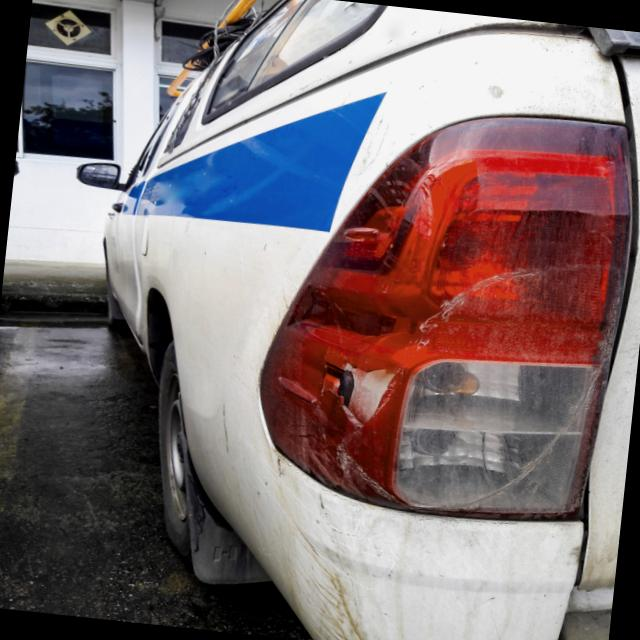Phare abime: (301, 349, 421, 472)
